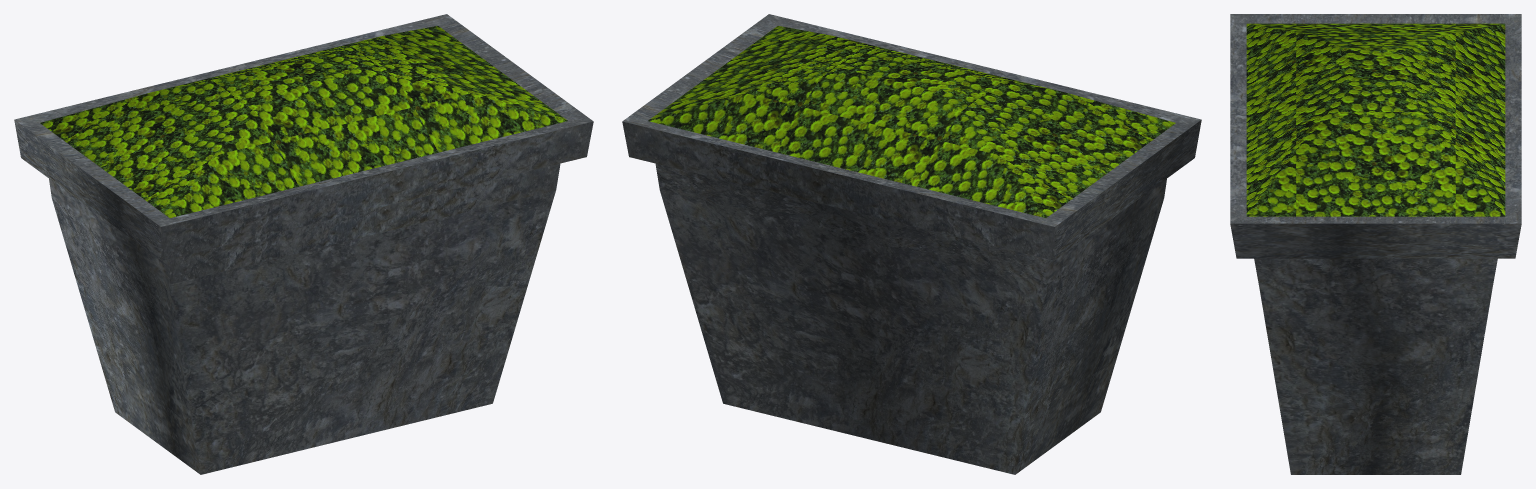
Rendered from greenPlanter.fbx.
The picture shows the model from 3 angles, left to right: view 1: azimuth 30°, elevation 25°; view 2: azimuth 150°, elevation 25°; view 3: azimuth 270°, elevation 25°; orthographic projection.
Parts seen in each view (by area): view 1: pCube39; view 2: pCube39; view 3: pCube39.
Part boxes in pixels (x1,y1,x2,y2): pCube39: [14, 14, 593, 474]; pCube39: [622, 14, 1201, 474]; pCube39: [1230, 14, 1521, 474].
Size of the model in its own units: 4.1 by 3.03 by 2.41.
2 materials, 2 textured.
